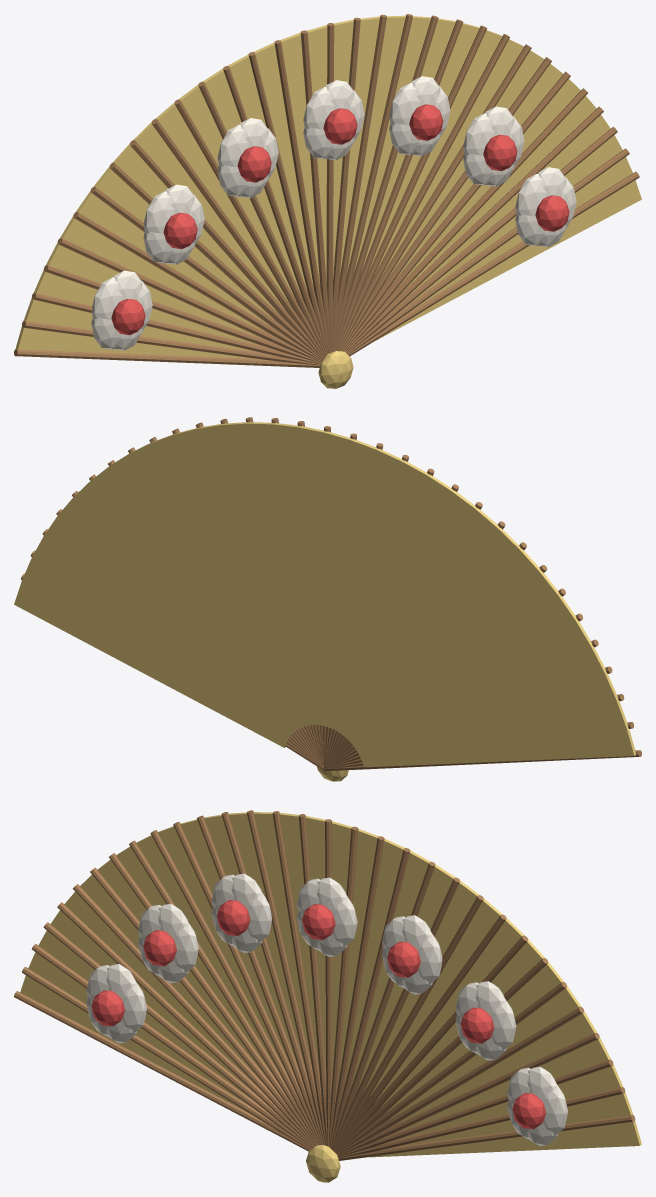
The model's file is noh_folding_fan.glb.
3 views of the same model, one above another, from view 1: azimuth 30°, elevation 25°; view 2: azimuth 150°, elevation 25°; view 3: azimuth 330°, elevation 25° (orthographic).
Visible parts, largest first — view 1: Noh painted folding fan gold-threaded paper pleat.031, Noh painted folding fan gold-threaded paper pleat.004, Noh painted folding fan gold-threaded paper pleat.009, Noh painted folding fan gold-threaded paper pleat.013, Noh painted folding fan gold-threaded paper pleat.018, Noh painted folding fan gold-threaded paper pleat.014, Noh painted folding fan gold-threaded paper pleat.008, Noh painted folding fan gold-threaded paper pleat, Noh painted folding fan gold-threaded paper pleat.027, Noh painted folding fan carved fan bone.023, Noh painted folding fan gold-threaded paper pleat.022, Noh painted folding fan gold-threaded paper pleat.023 (+81 smaller); view 2: Noh painted folding fan gold-threaded paper pleat.016, Noh painted folding fan gold-threaded paper pleat, Noh painted folding fan gold-threaded paper pleat.014, Noh painted folding fan gold-threaded paper pleat.013, Noh painted folding fan gold-threaded paper pleat.017, Noh painted folding fan gold-threaded paper pleat.012, Noh painted folding fan gold-threaded paper pleat.001, Noh painted folding fan gold-threaded paper pleat.018, Noh painted folding fan gold-threaded paper pleat.002, Noh painted folding fan gold-threaded paper pleat.011, Noh painted folding fan gold-threaded paper pleat.003, Noh painted folding fan gold-threaded paper pleat.019 (+21 smaller); view 3: Noh painted folding fan gold-threaded paper pleat.031, Noh painted folding fan gold-threaded paper pleat.027, Noh painted folding fan gold-threaded paper pleat.022, Noh painted folding fan gold-threaded paper pleat.018, Noh painted folding fan gold-threaded paper pleat.013, Noh painted folding fan gold-threaded paper pleat.017, Noh painted folding fan gold-threaded paper pleat.023, Noh painted folding fan gold-threaded paper pleat.004, Noh painted folding fan carved fan bone.009, Noh painted folding fan gold-threaded paper pleat.008, Noh painted folding fan gold-threaded paper pleat.009, Noh painted folding fan carved fan bone.013 (+81 smaller).
Boxes of the visible parts, bbox=[...] form: Noh painted folding fan gold-threaded paper pleat.031: bbox=[374, 180, 641, 341]; Noh painted folding fan gold-threaded paper pleat.004: bbox=[60, 216, 265, 331]; Noh painted folding fan gold-threaded paper pleat.009: bbox=[155, 103, 290, 304]; Noh painted folding fan gold-threaded paper pleat.013: bbox=[254, 42, 313, 288]; Noh painted folding fan gold-threaded paper pleat.018: bbox=[347, 15, 405, 273]; Noh painted folding fan gold-threaded paper pleat.014: bbox=[280, 32, 320, 285]; Noh painted folding fan gold-threaded paper pleat.008: bbox=[133, 122, 284, 308]; Noh painted folding fan gold-threaded paper pleat: bbox=[15, 326, 256, 358]; Noh painted folding fan gold-threaded paper pleat.027: bbox=[401, 96, 596, 293]; Noh painted folding fan carved fan bone.023: bbox=[338, 34, 509, 351]; Noh painted folding fan gold-threaded paper pleat.022: bbox=[375, 30, 502, 273]; Noh painted folding fan gold-threaded paper pleat.023: bbox=[381, 39, 524, 276]; Noh painted folding fan gold-threaded paper pleat.016: bbox=[298, 426, 325, 725]; Noh painted folding fan gold-threaded paper pleat: bbox=[363, 727, 635, 767]; Noh painted folding fan gold-threaded paper pleat.014: bbox=[327, 439, 377, 727]; Noh painted folding fan gold-threaded paper pleat.013: bbox=[331, 449, 403, 729]; Noh painted folding fan gold-threaded paper pleat.017: bbox=[272, 423, 320, 725]; Noh painted folding fan gold-threaded paper pleat.012: bbox=[334, 460, 428, 731]; Noh painted folding fan gold-threaded paper pleat.001: bbox=[361, 699, 627, 763]; Noh painted folding fan gold-threaded paper pleat.018: bbox=[246, 422, 317, 724]; Noh painted folding fan gold-threaded paper pleat.002: bbox=[360, 672, 617, 759]; Noh painted folding fan gold-threaded paper pleat.011: bbox=[337, 474, 452, 733]; Noh painted folding fan gold-threaded paper pleat.003: bbox=[358, 645, 605, 756]; Noh painted folding fan gold-threaded paper pleat.019: bbox=[221, 422, 313, 724]; Noh painted folding fan gold-threaded paper pleat.031: bbox=[369, 1120, 641, 1157]; Noh painted folding fan gold-threaded paper pleat.027: bbox=[391, 1011, 597, 1126]; Noh painted folding fan gold-threaded paper pleat.022: bbox=[369, 898, 502, 1097]; Noh painted folding fan gold-threaded paper pleat.018: bbox=[345, 838, 404, 1082]; Noh painted folding fan gold-threaded paper pleat.013: bbox=[253, 812, 312, 1067]; Noh painted folding fan gold-threaded paper pleat.017: bbox=[339, 828, 378, 1079]; Noh painted folding fan gold-threaded paper pleat.023: bbox=[374, 918, 524, 1103]; Noh painted folding fan gold-threaded paper pleat.004: bbox=[64, 891, 257, 1086]; Noh painted folding fan carved fan bone.009: bbox=[150, 830, 320, 1144]; Noh painted folding fan gold-threaded paper pleat.008: bbox=[136, 835, 278, 1071]; Noh painted folding fan gold-threaded paper pleat.009: bbox=[158, 826, 284, 1068]; Noh painted folding fan carved fan bone.013: bbox=[246, 810, 325, 1145].
Size of the model in its own units: 1.95 by 1.07 by 0.1102.
